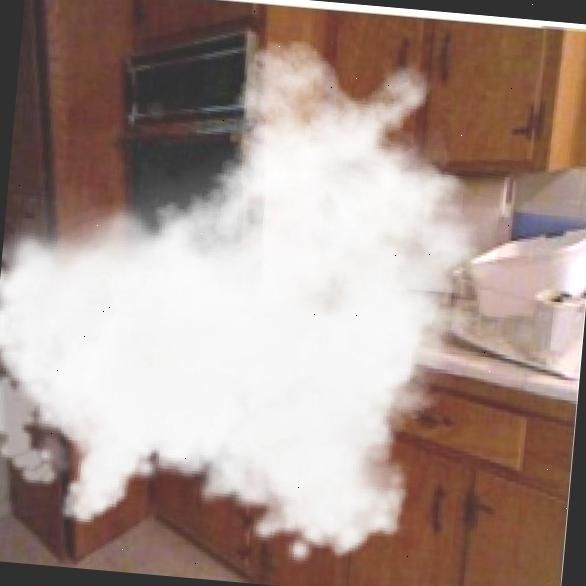smoke: (0, 14, 538, 583)
